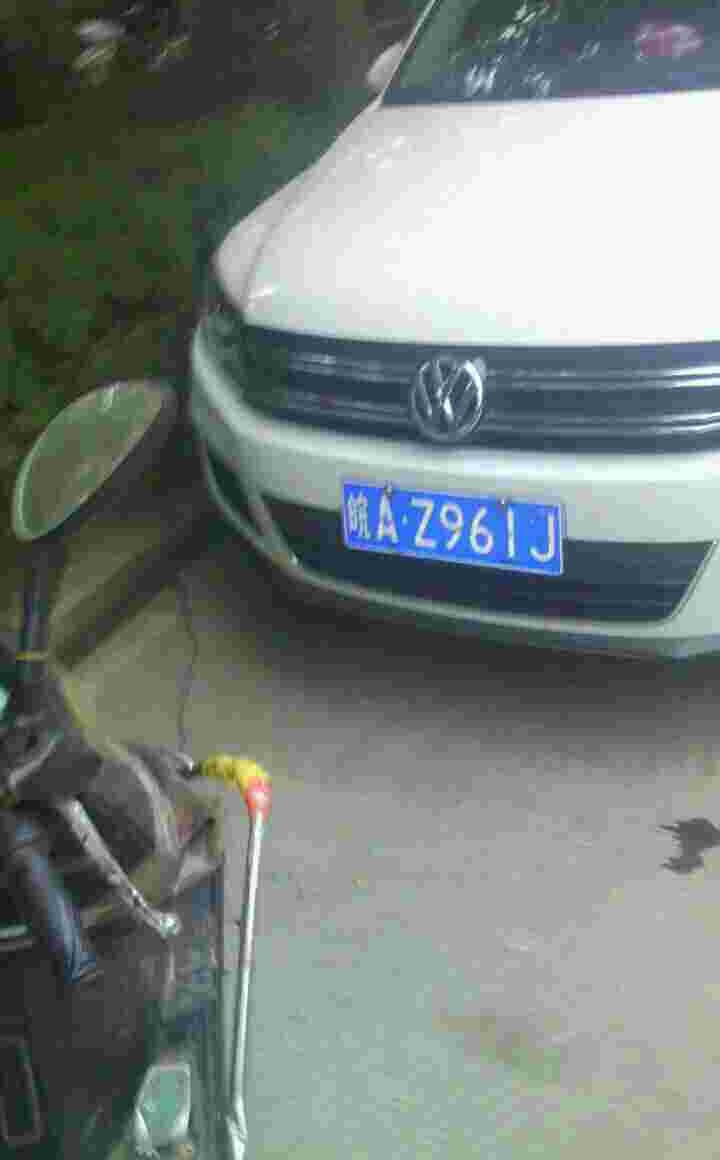plate: (337, 473, 566, 580)
